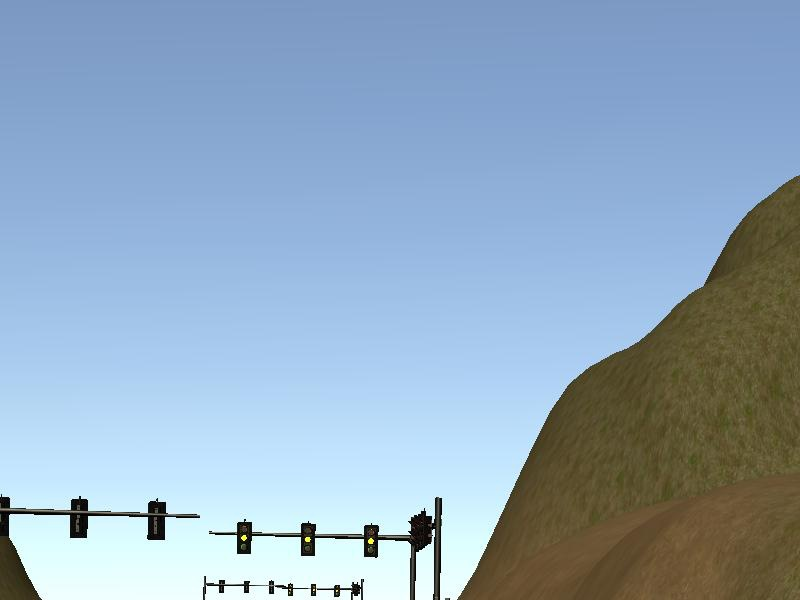yellow_light: (238, 523, 252, 555), (366, 527, 379, 558), (303, 525, 315, 554)
